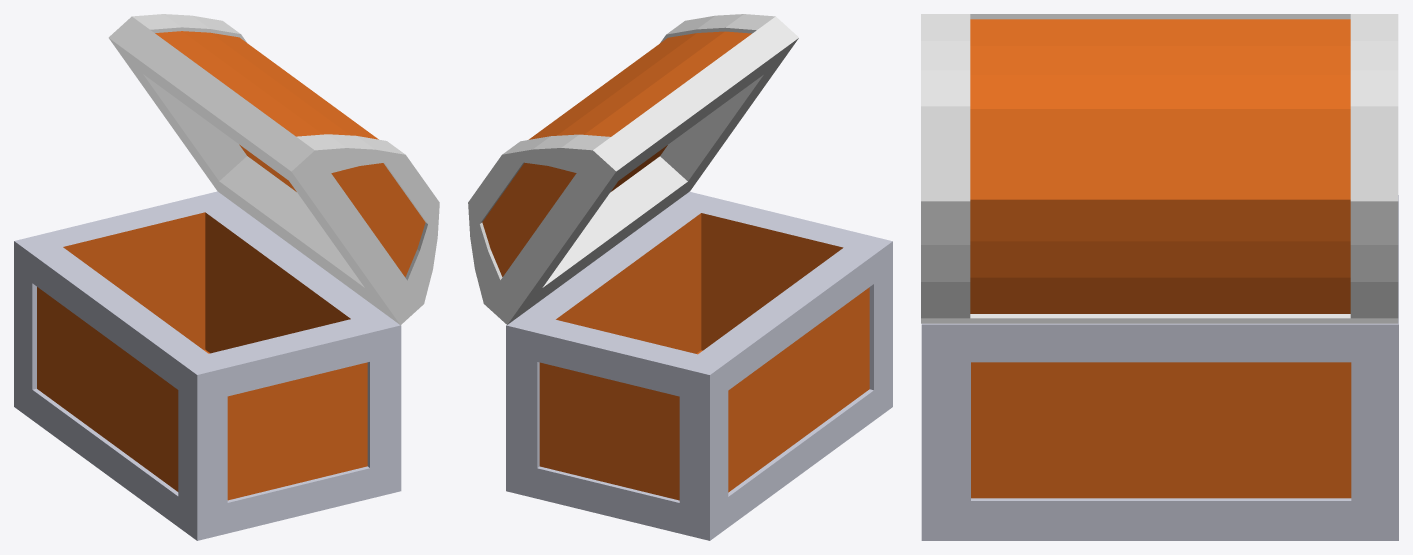
File: chest.fbx
3 renders of one model, left to right at view 1: azimuth 30°, elevation 25°; view 2: azimuth 150°, elevation 25°; view 3: azimuth 270°, elevation 25°, orthographic. The views are drawn at different scales.
Visible parts, largest first — view 1: lower chest, upper chest; view 2: lower chest, upper chest; view 3: upper chest, lower chest.
Boxes of the visible parts, bbox=[...] form: lower chest: bbox=[14, 191, 401, 540]; upper chest: bbox=[108, 14, 439, 325]; lower chest: bbox=[506, 191, 892, 540]; upper chest: bbox=[468, 14, 798, 324]; upper chest: bbox=[921, 14, 1398, 323]; lower chest: bbox=[921, 195, 1398, 540].
Size of the model in its own units: 153 by 218 by 200.
